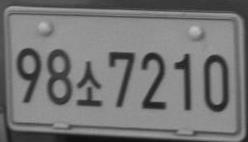0: (202, 53, 229, 112)
1: (171, 53, 198, 110)
2: (139, 51, 167, 110)
7: (108, 51, 135, 108)
8: (46, 48, 72, 105)
9: (15, 46, 41, 103)
소: (76, 60, 103, 107)
